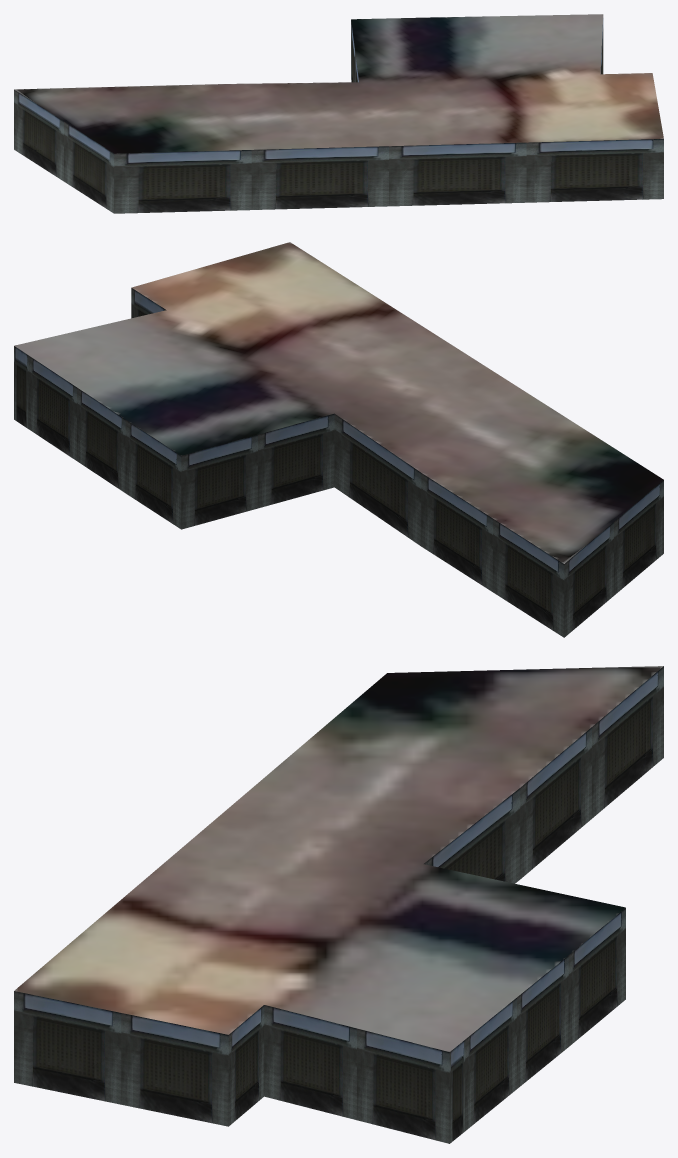
File: T_1T8GJ4PGDP.dae
3 renders of one model, top to bottom at view 1: azimuth 30°, elevation 25°; view 2: azimuth 150°, elevation 25°; view 3: azimuth 270°, elevation 25°, orthographic. The views are drawn at different scales.
Visible parts, largest first — view 1: SketchUp (×3); view 2: SketchUp (×9); view 3: SketchUp (×9).
Boxes of the visible parts, <box> form: SketchUp (×3): <box>14,14,663,213</box>; SketchUp (×9): <box>14,242,663,637</box>; SketchUp (×9): <box>14,666,663,1143</box>.
Size of the model in its own units: 26.07 by 18.54 by 2.89.
2 materials, 2 textured.
